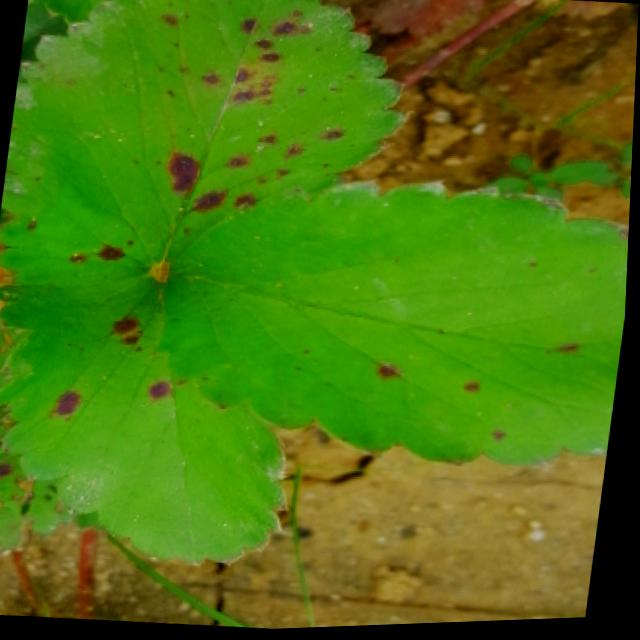Leaf Spot: (159, 182, 632, 475), (0, 0, 408, 290), (0, 271, 294, 568), (0, 402, 97, 555)
